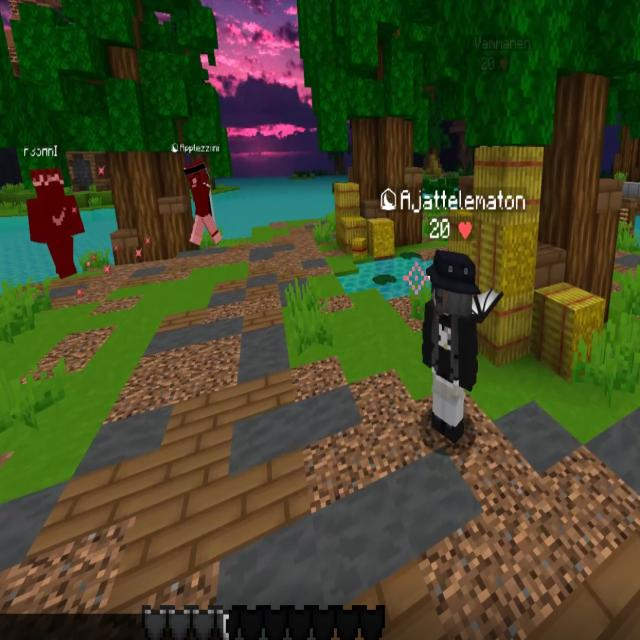Player: (423, 248, 478, 441), (26, 165, 84, 278), (184, 163, 222, 244)
